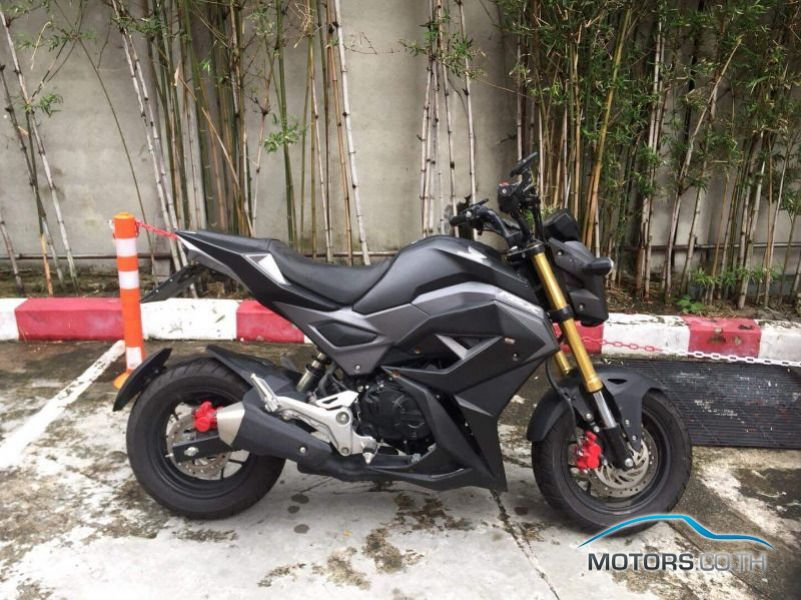motorcycle: (111, 212, 699, 529)
